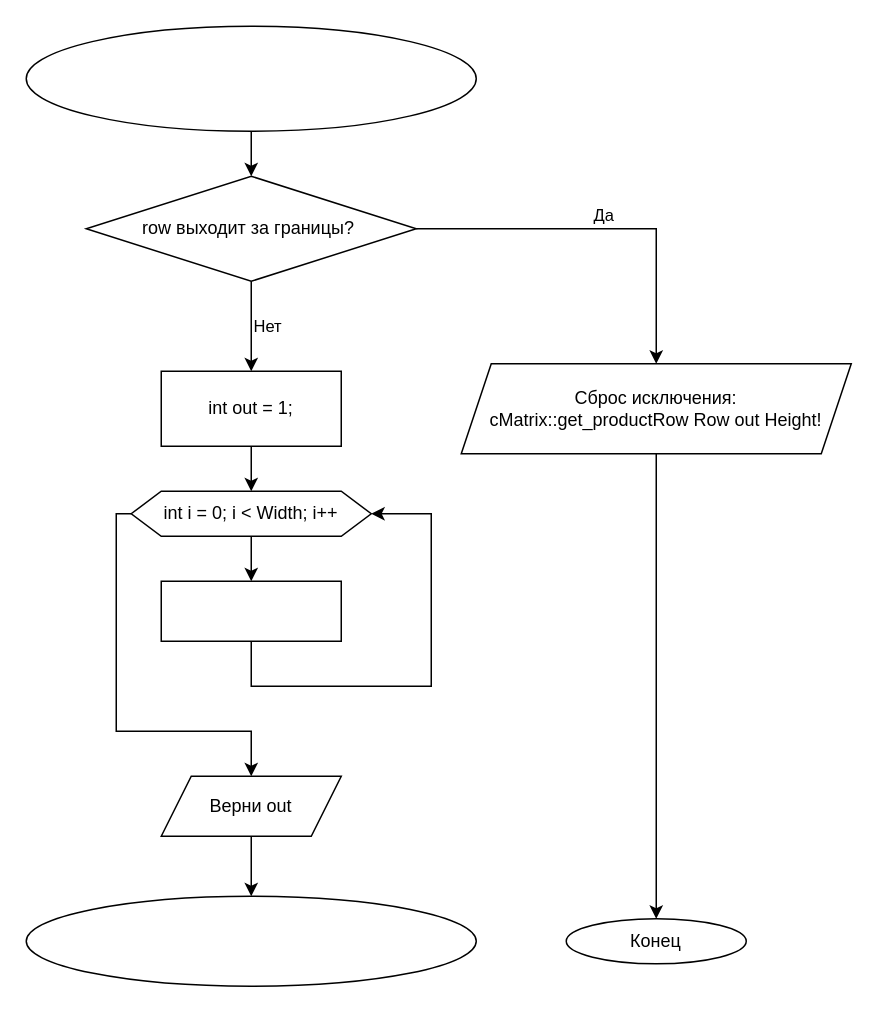
Some shapes in this 878 by 1013 pixel diagram are drawn without their labels. Here are the shapes that lost their labels. From the top down, the centre of each, then its label:
At point (250, 78): "Начало int Core::cMatrix::get_productRow(int row) const".
At point (250, 610): "out *= Mas[row][i];".
At point (250, 940): "Конец int Core::cMatrix::get_productRow(int row) const".
